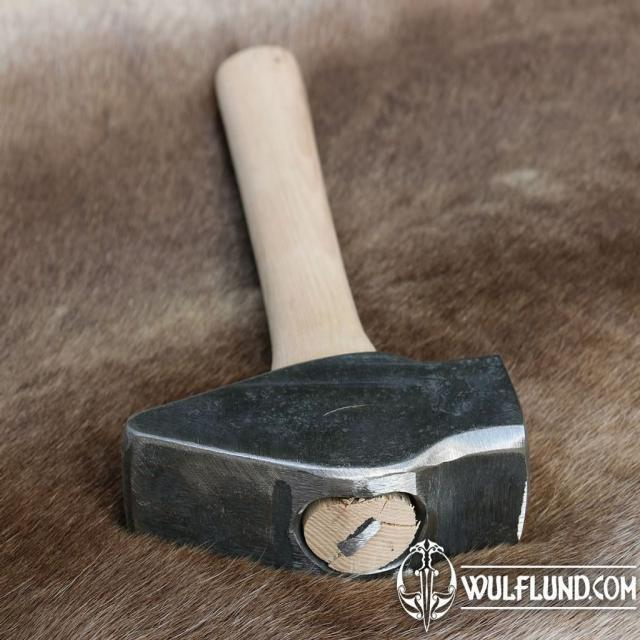hammer: (117, 37, 535, 587)
